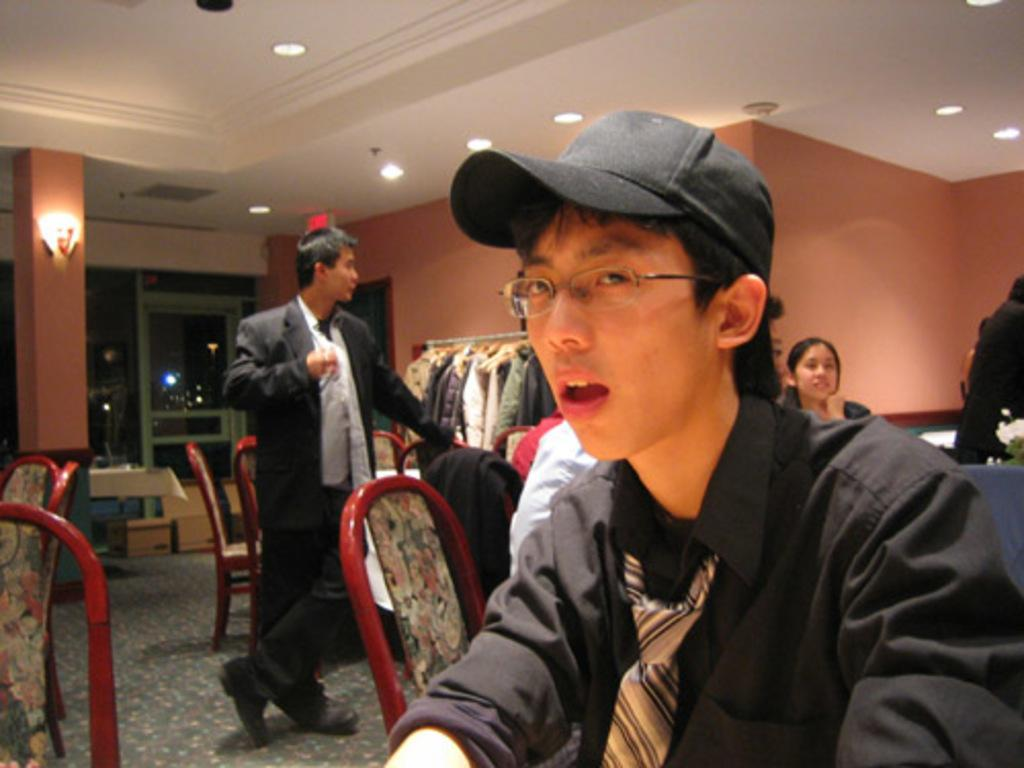Hat: (444, 104, 778, 309)
